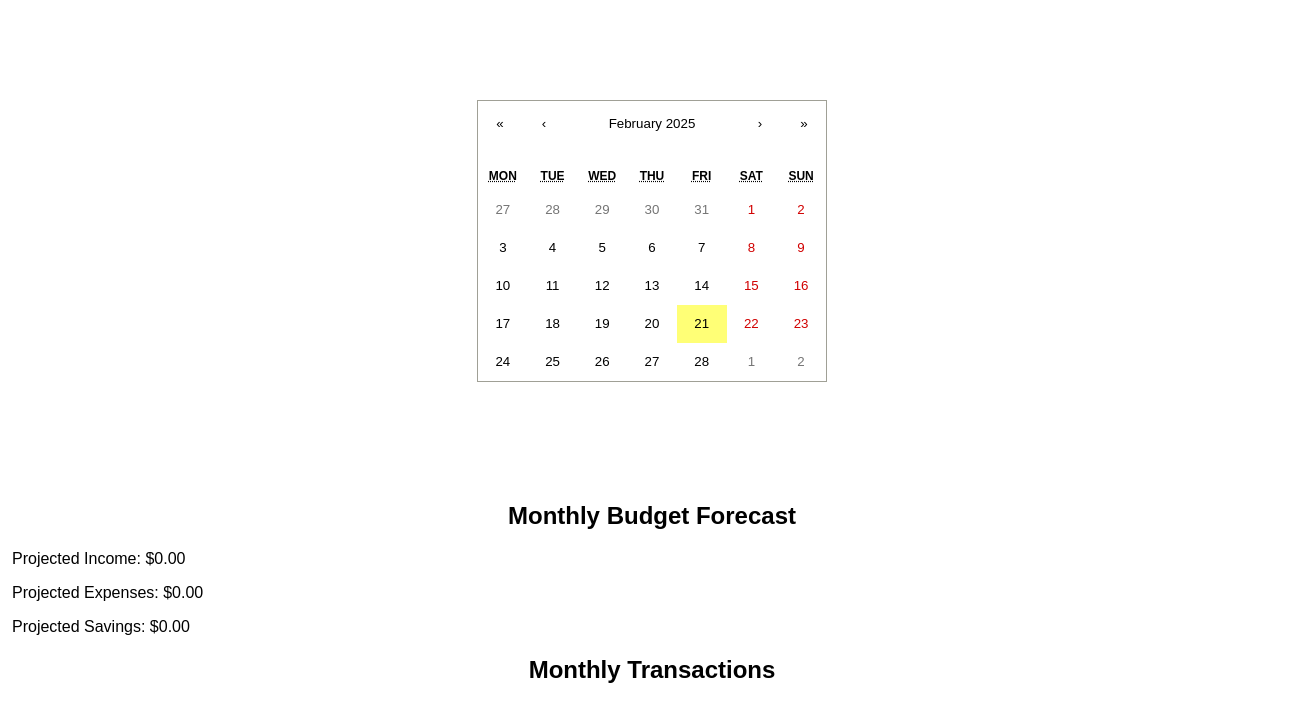
Test: Home Component › displays option form when a date is clicked
Click the 1st button with class "react-calendar__tile".
click(503, 210)  # box x1=478 y1=191 x2=528 y2=229
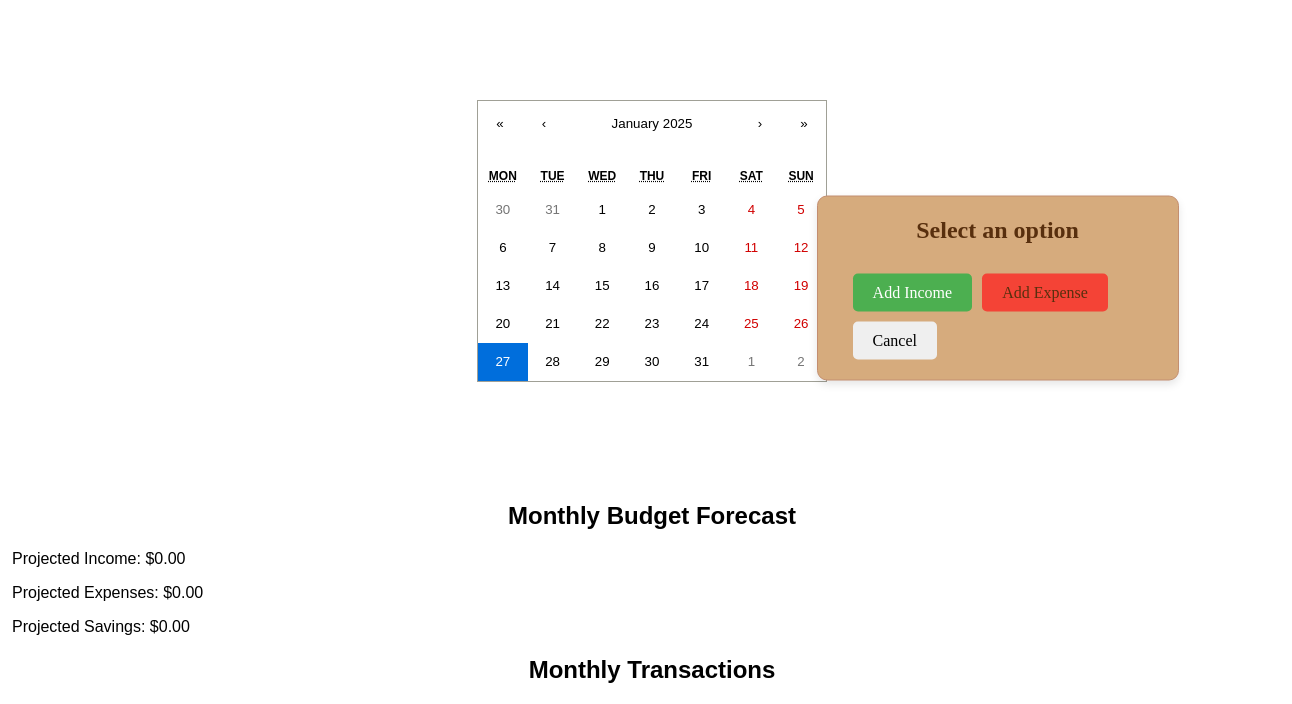
Check: the heading "Select an option" is shown, box x1=916 y1=216 x2=1079 y2=242
